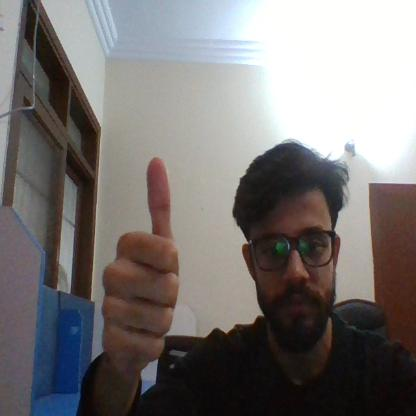thumbs-up: (105, 156, 191, 371)
